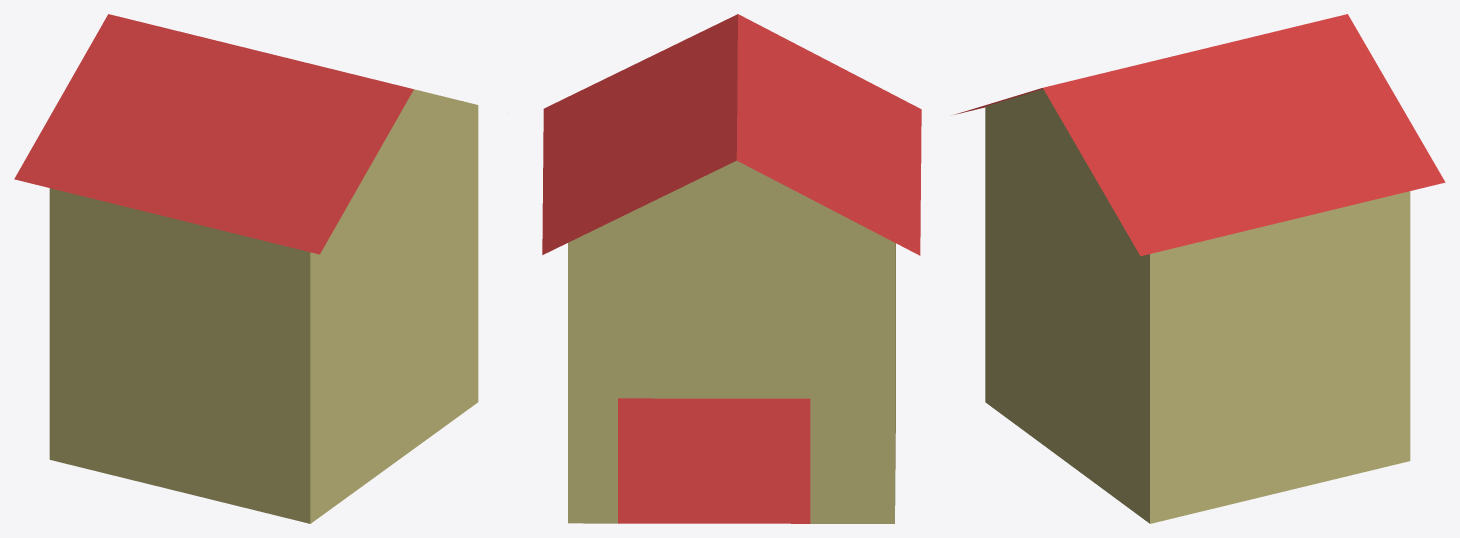
3 renders of one model, left to right at view 1: azimuth 30°, elevation 25°; view 2: azimuth 150°, elevation 25°; view 3: azimuth 270°, elevation 25°, orthographic.
Parts seen in each view (by area): view 1: group_5, group_3, group_4; view 2: group_5, group_3, group_6, group_4; view 3: group_5, group_3, group_4.
Boxes of the visible parts, x1,y1,x2,y2 form: group_5: (49, 89, 478, 523); group_3: (50, 19, 413, 254); group_4: (14, 14, 318, 254); group_5: (568, 160, 895, 523); group_3: (542, 14, 921, 254); group_6: (618, 398, 810, 523); group_4: (542, 14, 921, 255); group_5: (985, 89, 1410, 523); group_3: (972, 14, 1445, 255); group_4: (954, 16, 1444, 255).
Size of the model in its own units: 14.76 by 14.42 by 12.17.
